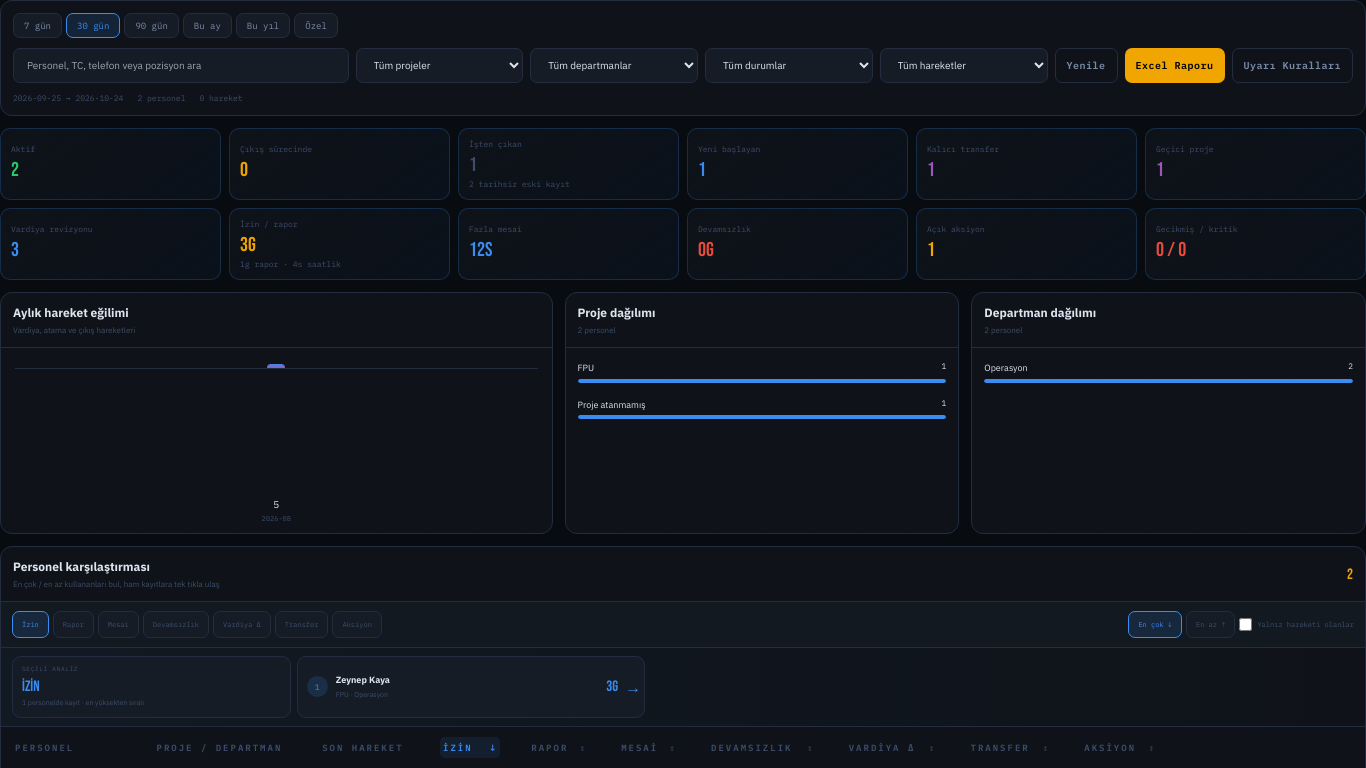
Scenario: Personel Takip Merkezi ayrıntı paneli › sıfır değerli KPI için anlamlı boş durum açar
The width and height of the screenshot is (1366, 768).
Click the button with aria-label "Devamsızlık ayrıntısını aç" at (798, 244), box [687,208,908,280]
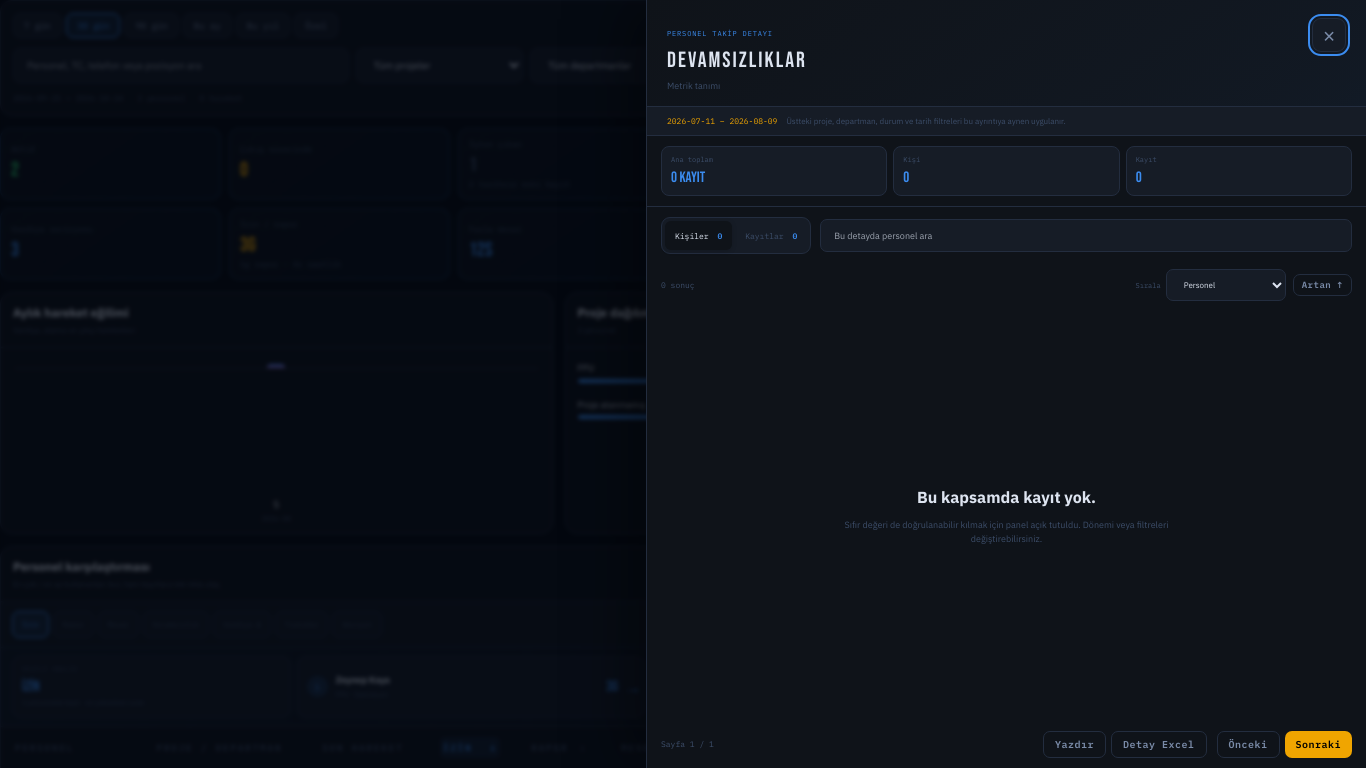
Check: the dialog "Devamsızlıklar" is shown, box [646,0,1365,767]
Check: the text "Bu kapsamda kayıt yok." is shown, box [917,486,1096,510]
